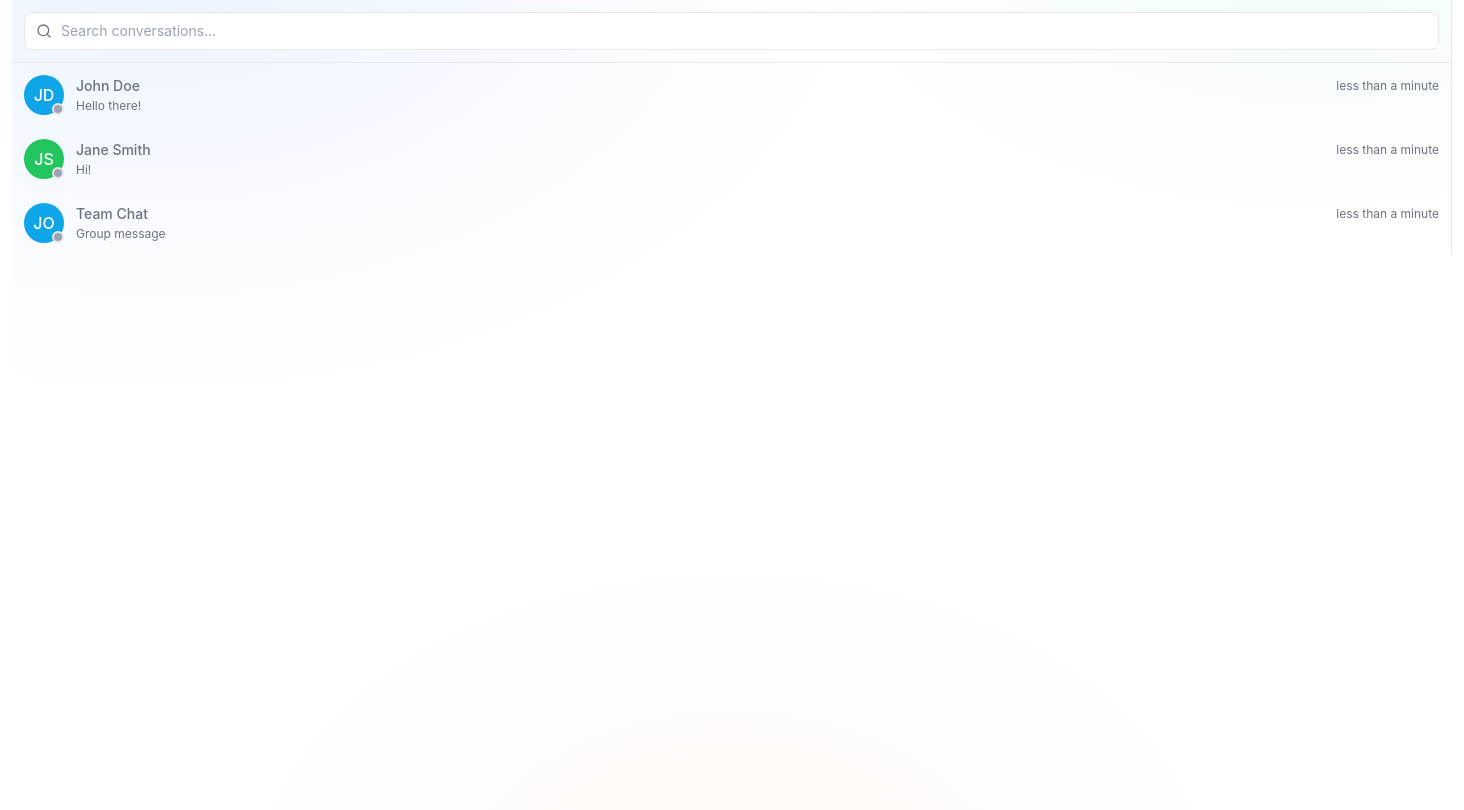
Test: ConversationList › Empty State › shows "No conversations found" when search has no results
Type "nonexistent user" into the field with placeholder "Search conversations..." at {"x": 732, "y": 31}, box [24,12,1439,50]
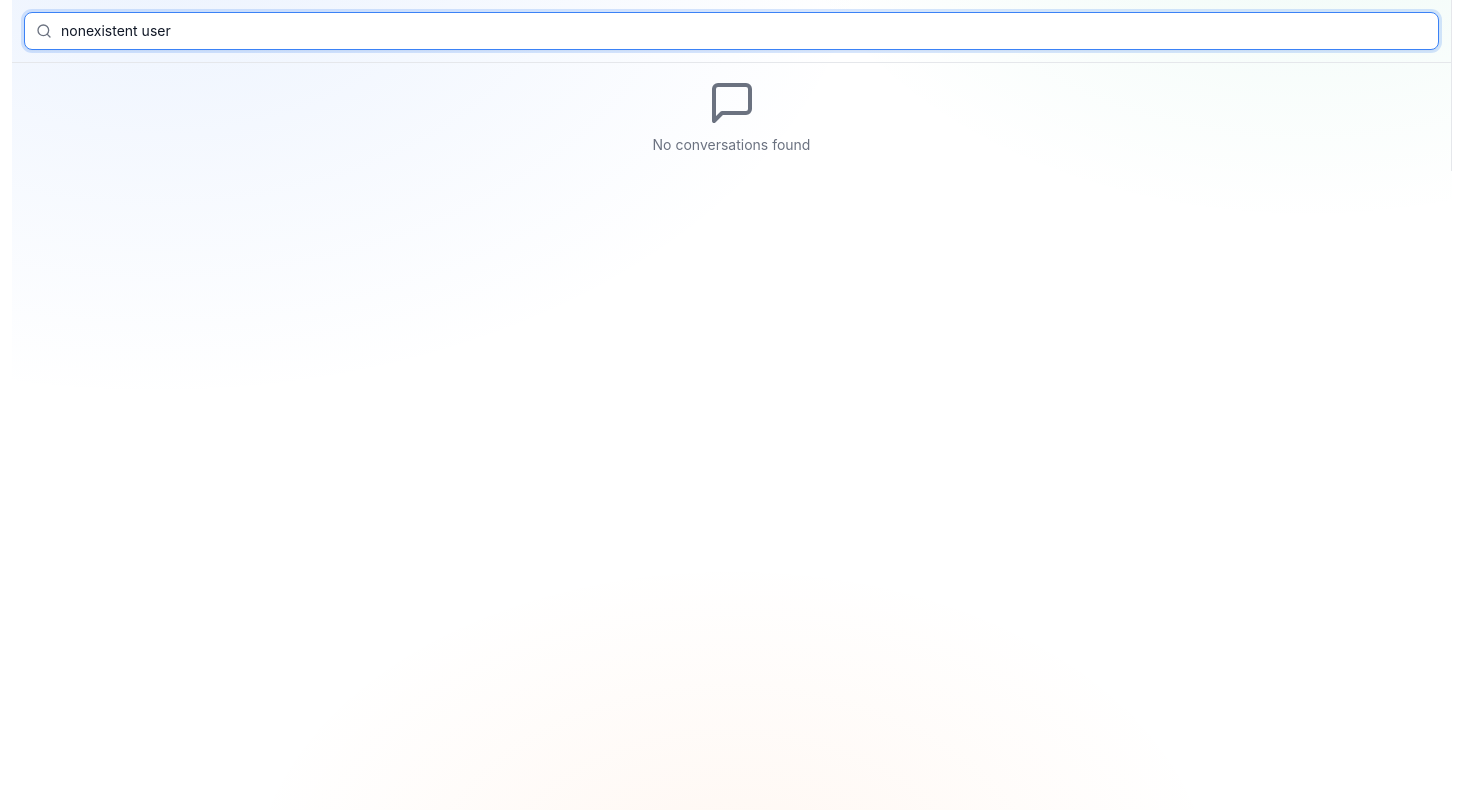
Now the text "No conversations found" is shown, box [653,135,810,155]
